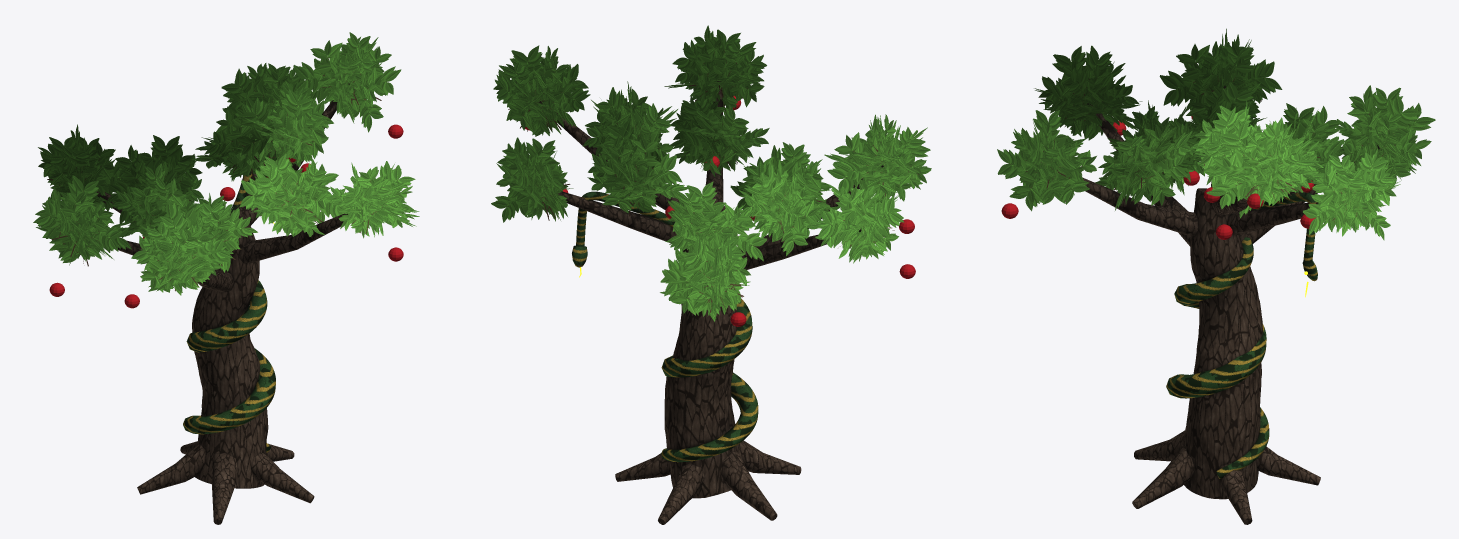
Rendered from cenario_arvore_serpente.glb.
3 views of the same model, side by side, from view 1: azimuth 30°, elevation 25°; view 2: azimuth 150°, elevation 25°; view 3: azimuth 270°, elevation 25° (orthographic). The views are drawn at different scales.
Visible parts, largest first — view 1: serpente_folhas, cenario_arvore_serpente_tronco, serpente_frutos; view 2: serpente_folhas, cenario_arvore_serpente_tronco, serpente_frutos; view 3: serpente_folhas, cenario_arvore_serpente_tronco, serpente_frutos.
Boxes of the visible parts, x1,y1,x2,y2 form: serpente_folhas: (33, 32, 419, 295); cenario_arvore_serpente_tronco: (96, 83, 349, 524); serpente_frutos: (49, 124, 403, 308); serpente_folhas: (491, 25, 931, 321); cenario_arvore_serpente_tronco: (539, 81, 883, 524); serpente_frutos: (525, 95, 915, 326); serpente_folhas: (997, 28, 1435, 240); cenario_arvore_serpente_tronco: (1083, 86, 1379, 524); serpente_frutos: (1001, 116, 1315, 239).
Size of the model in its own units: 6.66 by 6.5 by 5.97.
Materials: 4 (2 with a texture image).
